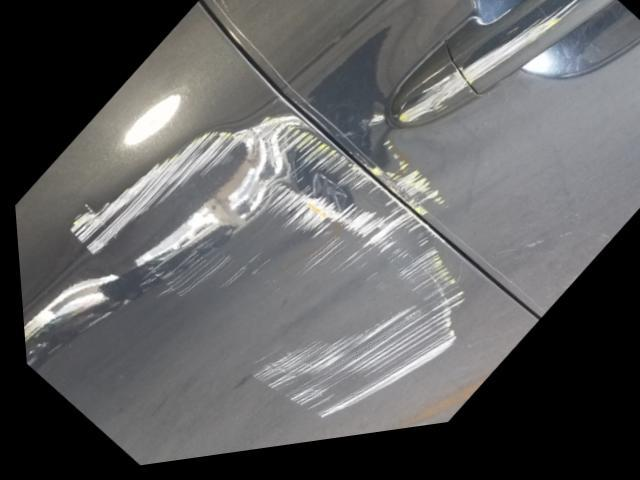rub: (63, 115, 469, 433), (356, 145, 453, 223)
scratch: (398, 3, 597, 135)
